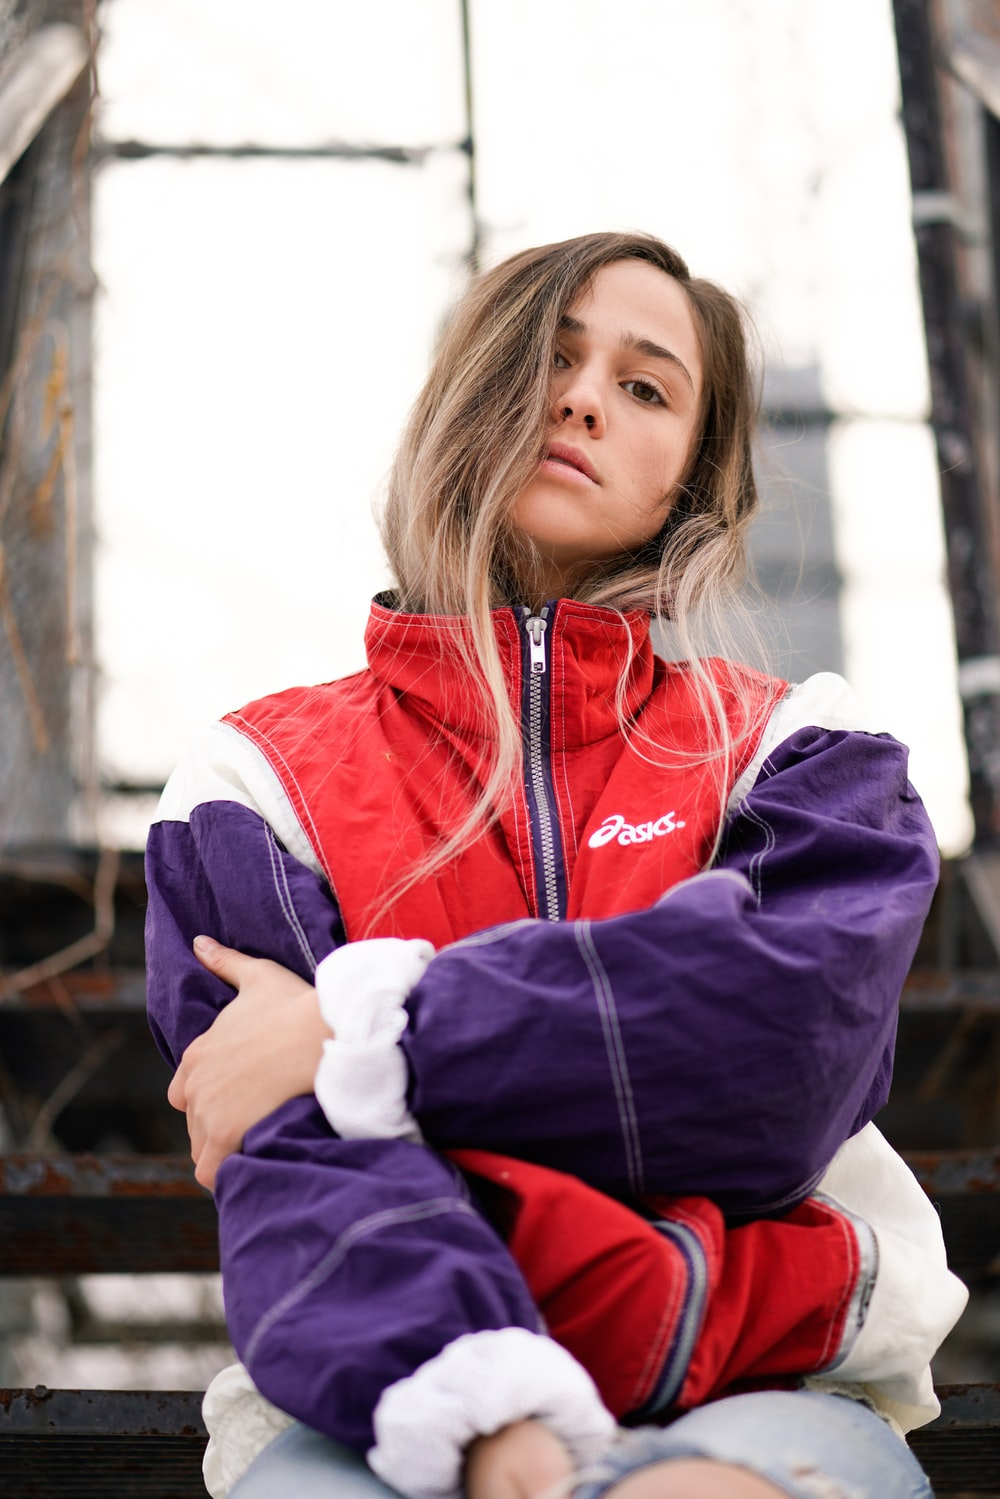face: (451, 245, 757, 611)
